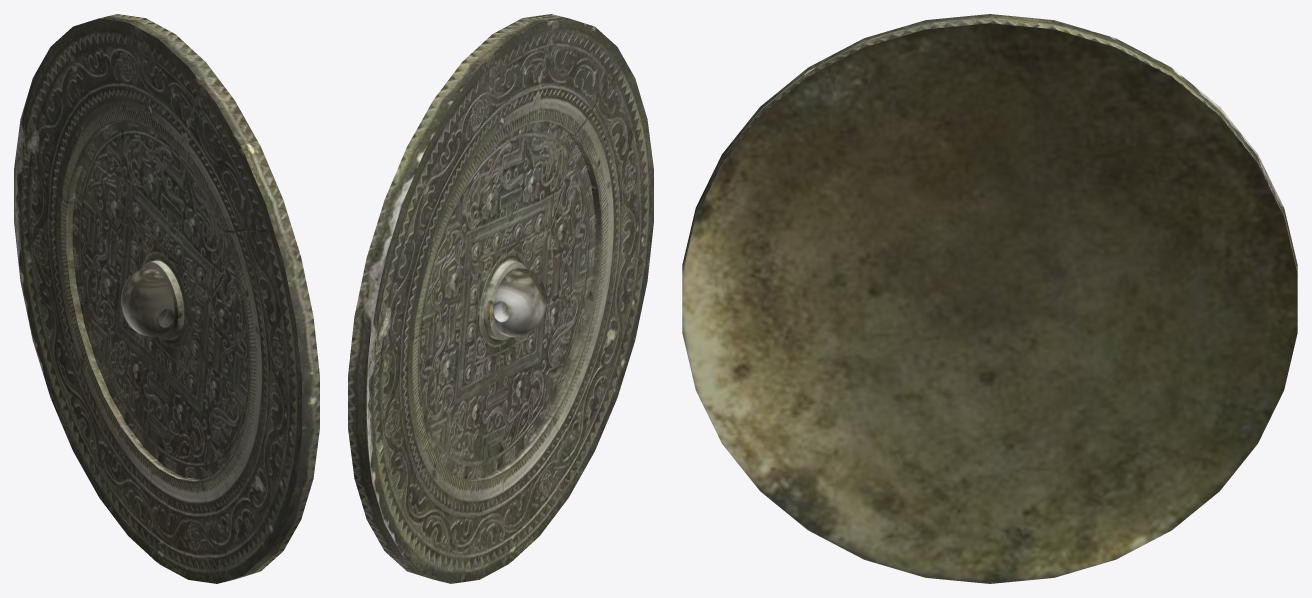
The model's file is 汉代规矩镜.FBX.
3 renders of one model, left to right at view 1: azimuth 30°, elevation 25°; view 2: azimuth 150°, elevation 25°; view 3: azimuth 270°, elevation 25°, orthographic. The views are drawn at different scales.
Parts seen in each view (by area): view 1: Sphere001; view 2: Sphere001; view 3: Sphere001.
Boxes of the visible parts, x1,y1,x2,y2 form: Sphere001: (14,14,319,583); Sphere001: (348,14,653,583); Sphere001: (682,14,1297,583).
Size of the model in its own units: 4.85 by 49.14 by 48.87.
